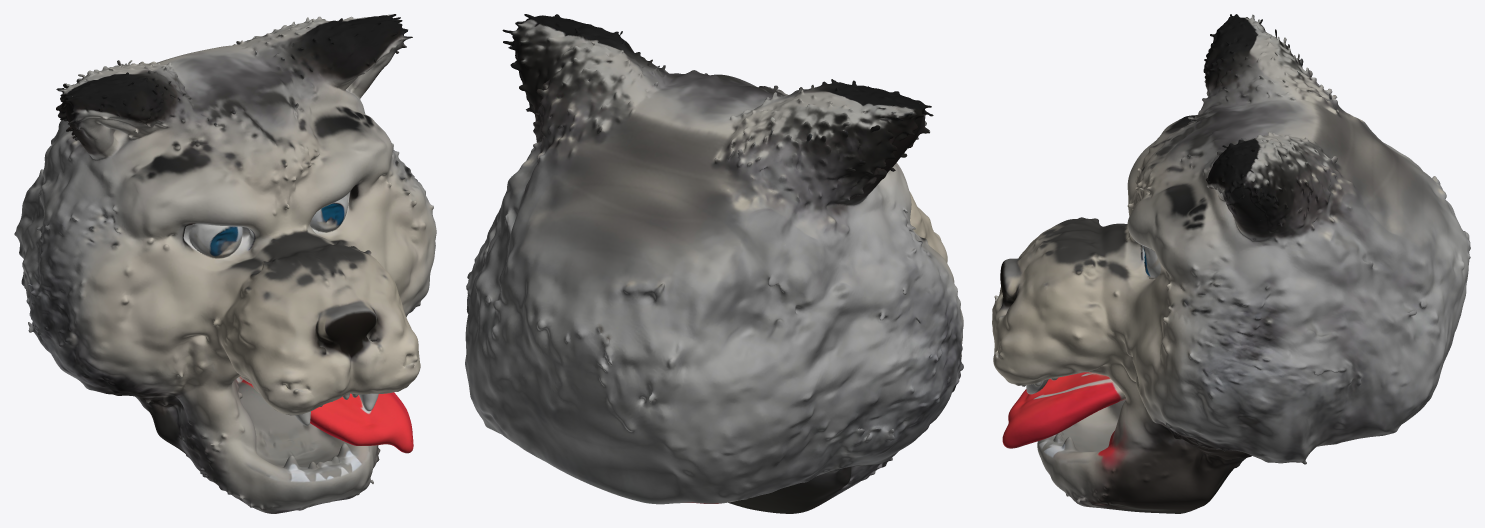
The model's file is wolf_mascot_head.glb.
The picture shows the model from 3 angles, left to right: view 1: azimuth 30°, elevation 25°; view 2: azimuth 150°, elevation 25°; view 3: azimuth 270°, elevation 25°; orthographic projection. The views are drawn at different scales.
Parts seen in each view (by area): view 1: tripo_node_a7ef28b6-abe3-450f-899f-6cd50d17df15; view 2: tripo_node_a7ef28b6-abe3-450f-899f-6cd50d17df15; view 3: tripo_node_a7ef28b6-abe3-450f-899f-6cd50d17df15.
Part boxes in pixels (x1,y1,x2,y2): tripo_node_a7ef28b6-abe3-450f-899f-6cd50d17df15: (14,14,436,513); tripo_node_a7ef28b6-abe3-450f-899f-6cd50d17df15: (465,14,963,513); tripo_node_a7ef28b6-abe3-450f-899f-6cd50d17df15: (992,14,1470,513).
Bounding box in the file's own units: 0.9094 × 0.9283 × 1.
1 material, 1 textured.
